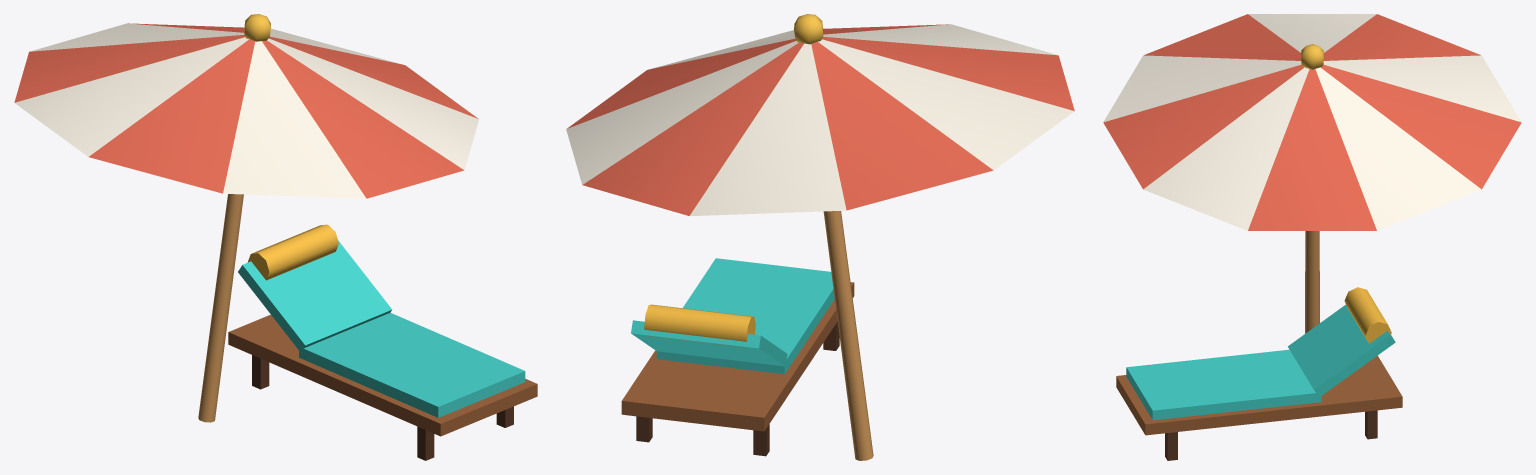
Rendered from beach-umbrella.glb.
The picture shows the model from 3 angles, left to right: view 1: azimuth 30°, elevation 25°; view 2: azimuth 150°, elevation 25°; view 3: azimuth 270°, elevation 25°; orthographic projection. The views are drawn at different scales.
Visible parts, largest first — view 1: Mesh_warmWhite, Mesh_coral, Mesh_turquoise, Mesh_wood, Mesh_lightWood, Mesh_mango, Mesh_darkWood, Mesh_gold; view 2: Mesh_warmWhite, Mesh_coral, Mesh_turquoise, Mesh_wood, Mesh_lightWood, Mesh_mango, Mesh_darkWood, Mesh_gold; view 3: Mesh_coral, Mesh_warmWhite, Mesh_turquoise, Mesh_wood, Mesh_lightWood, Mesh_mango, Mesh_darkWood, Mesh_gold.
Part boxes in pixels (bbox=[...]): Mesh_warmWhite: bbox=[14, 23, 479, 198]; Mesh_coral: bbox=[14, 23, 478, 198]; Mesh_turquoise: bbox=[238, 240, 525, 417]; Mesh_wood: bbox=[228, 314, 537, 436]; Mesh_lightWood: bbox=[198, 194, 243, 422]; Mesh_mango: bbox=[247, 224, 338, 280]; Mesh_darkWood: bbox=[252, 355, 513, 460]; Mesh_gold: bbox=[244, 14, 270, 41]; Mesh_warmWhite: bbox=[566, 24, 1074, 216]; Mesh_coral: bbox=[567, 24, 1074, 215]; Mesh_turquoise: bbox=[631, 258, 834, 374]; Mesh_wood: bbox=[621, 282, 854, 431]; Mesh_lightWood: bbox=[823, 211, 873, 460]; Mesh_mango: bbox=[644, 304, 755, 348]; Mesh_darkWood: bbox=[636, 322, 839, 456]; Mesh_gold: bbox=[794, 14, 823, 44]; Mesh_coral: bbox=[1103, 14, 1521, 230]; Mesh_warmWhite: bbox=[1103, 14, 1521, 230]; Mesh_turquoise: bbox=[1126, 304, 1395, 420]; Mesh_wood: bbox=[1116, 355, 1402, 435]; Mesh_lightWood: bbox=[1305, 231, 1319, 333]; Mesh_mango: bbox=[1344, 287, 1391, 343]; Mesh_darkWood: bbox=[1165, 410, 1377, 460]; Mesh_gold: bbox=[1301, 44, 1323, 69].
Size of the model in its own units: 2.6 by 2.5 by 2.76.
